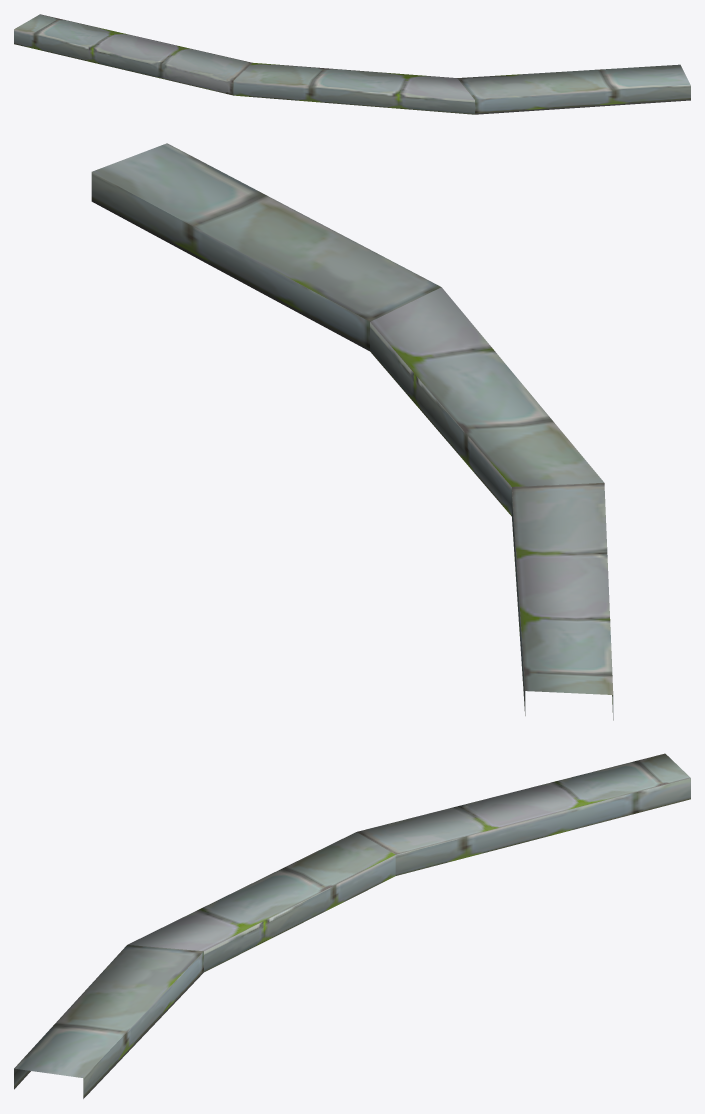
The model's file is Map_06_brick15.FBX.
3 views of the same model, one above another, from view 1: azimuth 30°, elevation 25°; view 2: azimuth 150°, elevation 25°; view 3: azimuth 270°, elevation 25° (orthographic). The views are drawn at different scales.
Parts seen in each view (by area): view 1: Map_06_brick15; view 2: Map_06_brick15; view 3: Map_06_brick15.
Part boxes in pixels (<box>): Map_06_brick15: <box>14,14,690,114</box>; Map_06_brick15: <box>91,143,613,720</box>; Map_06_brick15: <box>14,753,690,1098</box>.
Size of the model in its own units: 1066 by 939 by 32.64.
